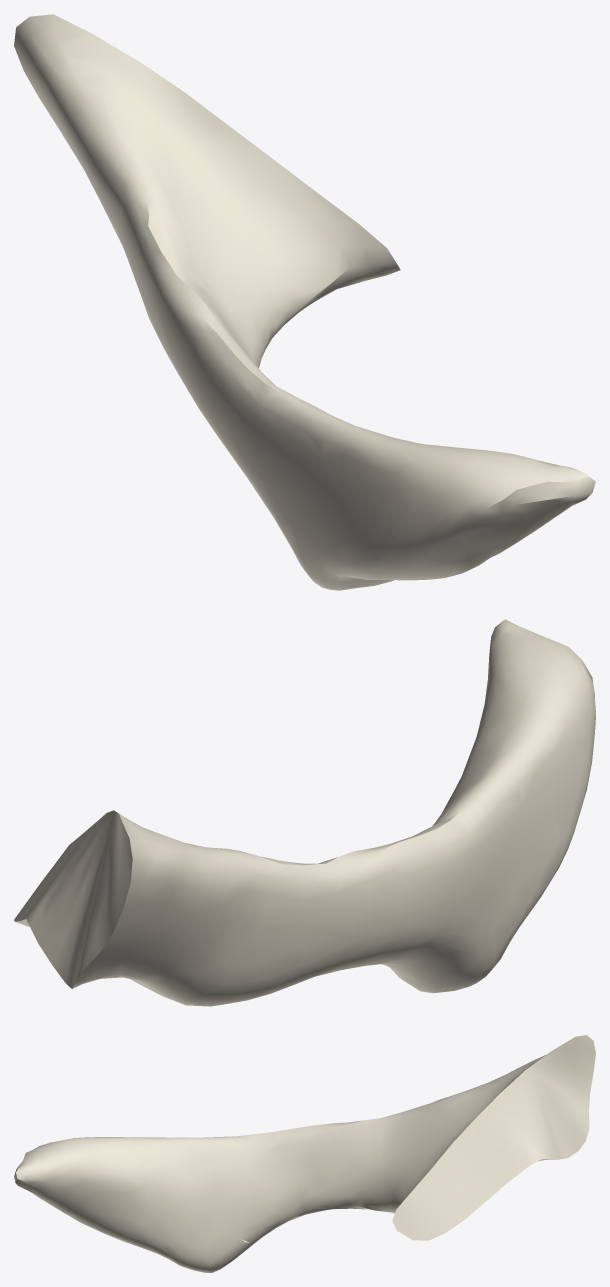
Rendered from fma52887_mm1004m.glb.
3 views of the same model, one above another, from view 1: azimuth 30°, elevation 25°; view 2: azimuth 150°, elevation 25°; view 3: azimuth 270°, elevation 25° (orthographic). The views are drawn at different scales.
Parts seen in each view (by area): view 1: FMA52887_MM1004M; view 2: FMA52887_MM1004M; view 3: FMA52887_MM1004M.
Boxes of the visible parts, left/top/right/bottom form: FMA52887_MM1004M: left=14, top=14, right=595, bottom=590; FMA52887_MM1004M: left=14, top=619, right=595, bottom=1006; FMA52887_MM1004M: left=14, top=1035, right=595, bottom=1272.
Bounding box in the file's own units: 0.0136 × 0.0174 × 0.0399.
